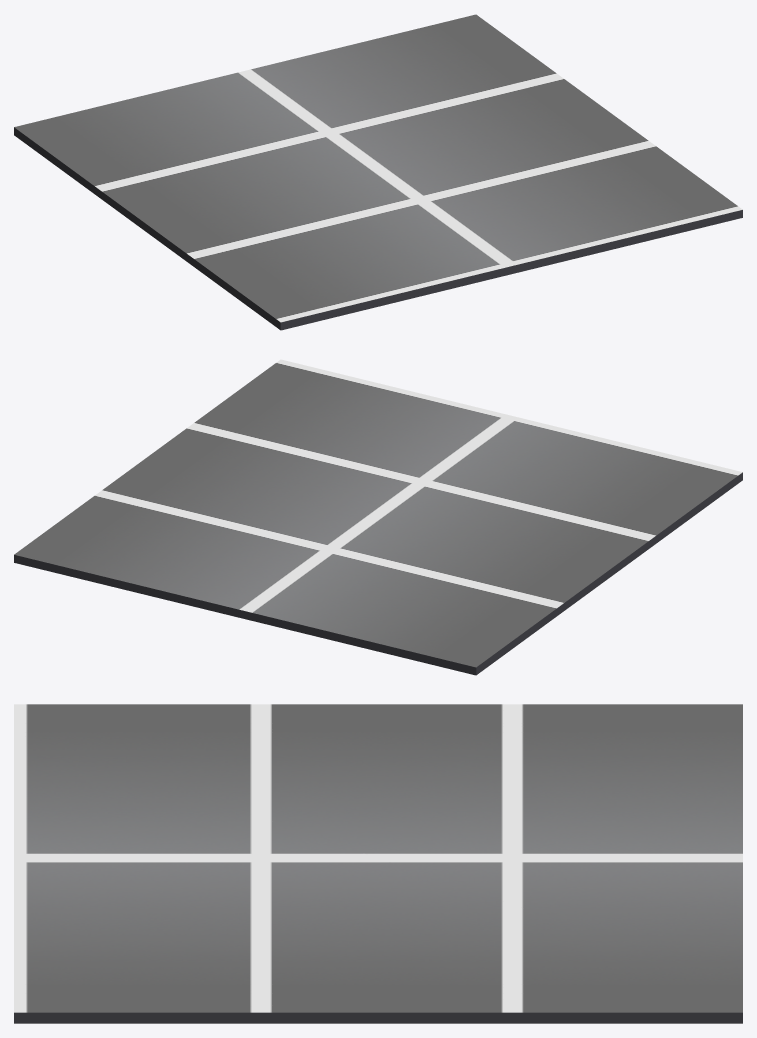
The model's file is Road7.fbx.
3 views of the same model, one above another, from view 1: azimuth 30°, elevation 25°; view 2: azimuth 150°, elevation 25°; view 3: azimuth 270°, elevation 25° (orthographic). The views are drawn at different scales.
Visible parts, largest first — view 1: Road7; view 2: Road7; view 3: Road7.
Part boxes in pixels (left/top/right/bottom): Road7: left=14, top=14, right=742, bottom=330; Road7: left=14, top=359, right=742, bottom=675; Road7: left=14, top=704, right=742, bottom=1023.
Size of the model in its own units: 12 by 0.2 by 12.
